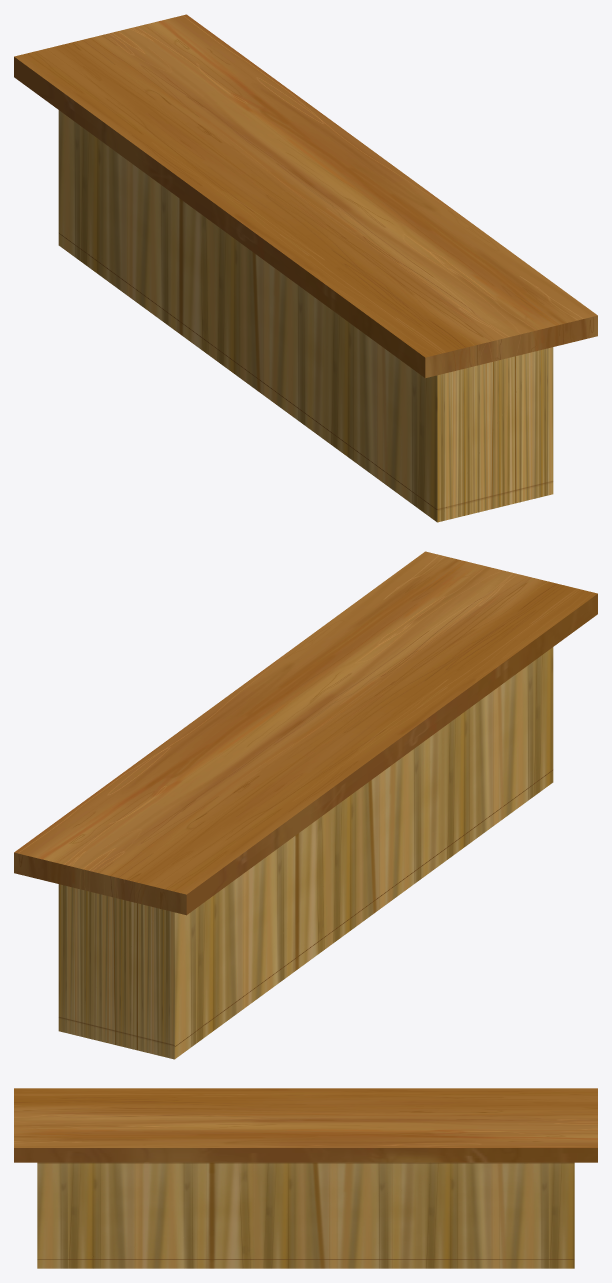
File: bar1.fbx
The picture shows the model from 3 angles, top to bottom: view 1: azimuth 30°, elevation 25°; view 2: azimuth 150°, elevation 25°; view 3: azimuth 270°, elevation 25°; orthographic projection. The views are drawn at different scales.
Visible parts, largest first — view 1: pCube37; view 2: pCube37; view 3: pCube37.
Part boxes in pixels (box(x1,y1,x2,y2)): pCube37: box(14, 14, 597, 522); pCube37: box(14, 551, 597, 1059); pCube37: box(14, 1088, 597, 1268).
Bounding box in the file's own units: 12.79 × 13.01 × 52.77.
Materials: 3 (2 with a texture image).
